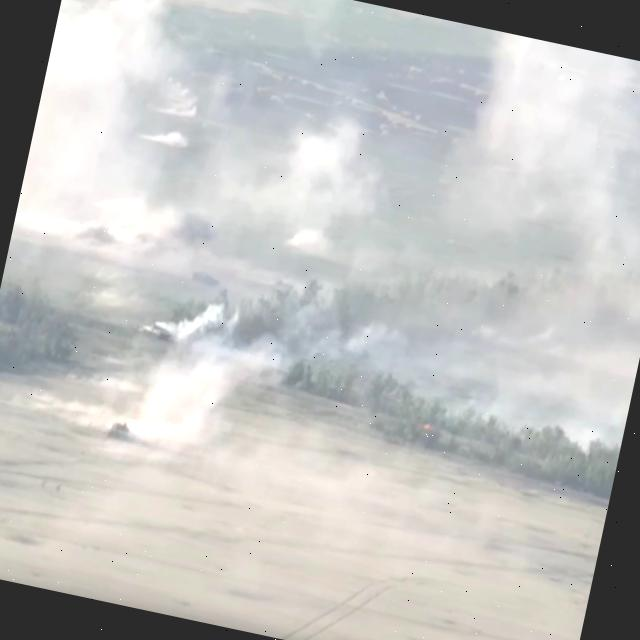AIFV: (136, 318, 175, 351), (188, 266, 224, 292)
MBT: (104, 415, 140, 448)
